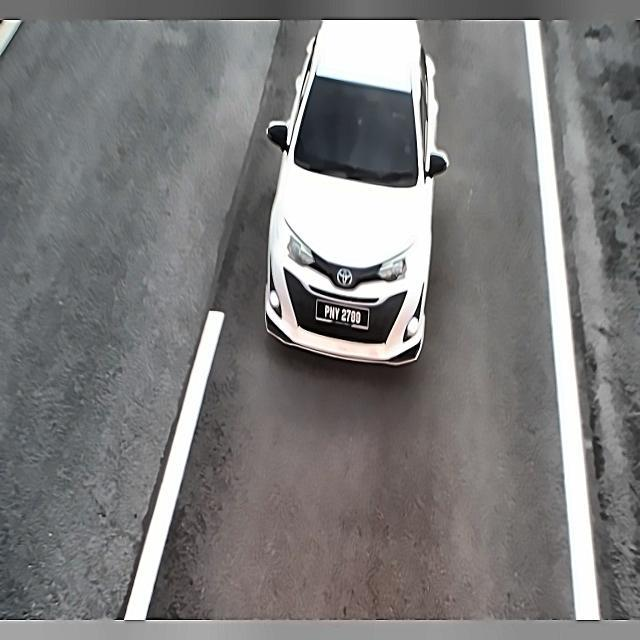car: (314, 294, 369, 338)
